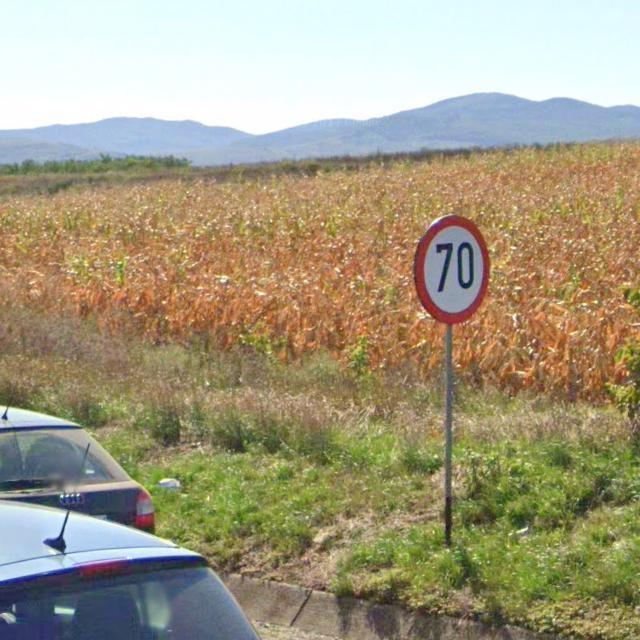forb_speed_over_70: (413, 210, 491, 323)
